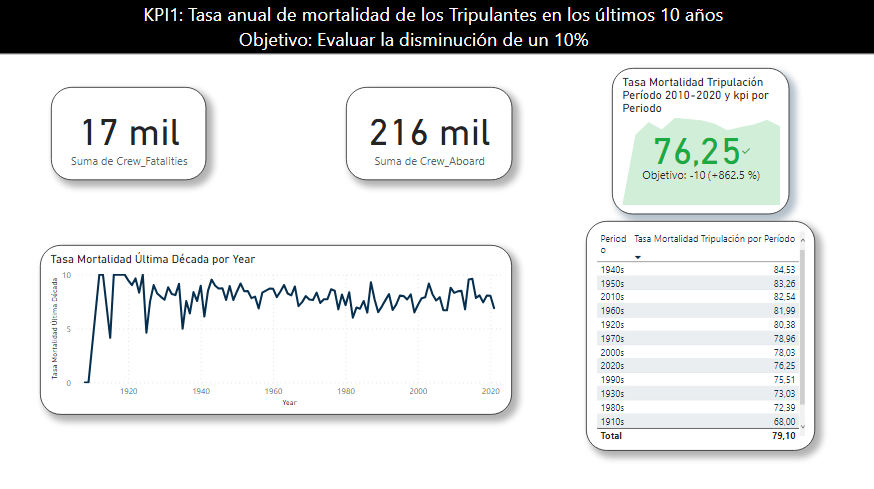

The dashboard page shown, as its layout file describes it:
{"tool":"powerbi","page":{"name":"KPI1","canvas":[1280,720],"ordinal":2},"visuals":[{"type":"textbox","box":[0,0,1279.7,82.6],"z":1000},{"type":"lineChart","fields":{"Y":["Medidas.Tasa Mortalidad Última Década"],"Category":["Calendario.Date.Variación.Date Hierarchy.Year"]},"box":[68.1,359.4,684.1,246.4],"z":1005},{"type":"card","fields":{"Values":["Sum(AccidentesAviones1.Crew_Fatalities)"]},"box":[84.1,130.4,224.6,134.8],"z":1006},{"type":"card","fields":{"Values":["Sum(AccidentesAviones1.Crew_Aboard)"]},"box":[511.6,130.4,240.6,134.8],"z":1007},{"type":"kpi","fields":{"Indicator":["Medidas.Tasa Mortalidad Tripulación por Período"],"TrendLine":["AccidentesAviones1.Periodo"],"Goal":["Medidas.kpi"]},"box":[897.1,102.9,256.5,211.6],"z":1009},{"type":"tableEx","fields":{"Values":["AccidentesAviones1.Periodo","Medidas.Tasa Mortalidad Tripulación por Período"]},"box":[859.4,324.6,331.9,333.3],"z":1010}]}

Visuals, with their boxes in screenshot pixels (x1, y1, x2, y2), scaled from the page's 1280x720 canvas onto the 874x489 screenshot:
textbox: {"left": 0, "top": 0, "right": 873, "bottom": 56}
lineChart - Medidas.Tasa Mortalidad Última Década x Calendario.Date.Variación.Date Hierarchy.Year: {"left": 46, "top": 244, "right": 514, "bottom": 411}
card - Sum(AccidentesAviones1.Crew_Fatalities): {"left": 57, "top": 89, "right": 211, "bottom": 180}
card - Sum(AccidentesAviones1.Crew_Aboard): {"left": 349, "top": 89, "right": 514, "bottom": 180}
kpi - Medidas.Tasa Mortalidad Tripulación por Período x AccidentesAviones1.Periodo: {"left": 613, "top": 70, "right": 788, "bottom": 214}
tableEx - AccidentesAviones1.Periodo x Medidas.Tasa Mortalidad Tripulación por Período: {"left": 587, "top": 220, "right": 813, "bottom": 447}
